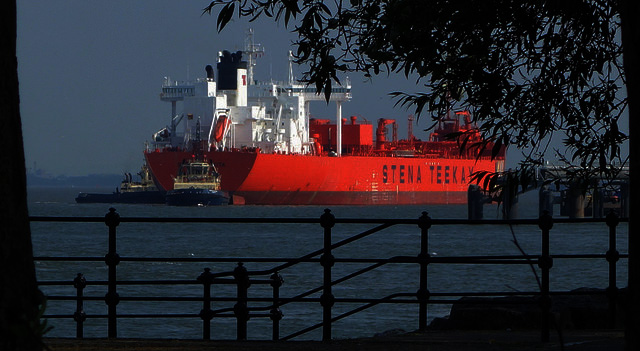tanker: (145, 36, 495, 200)
tug_boat: (165, 138, 230, 207), (75, 158, 161, 200)
